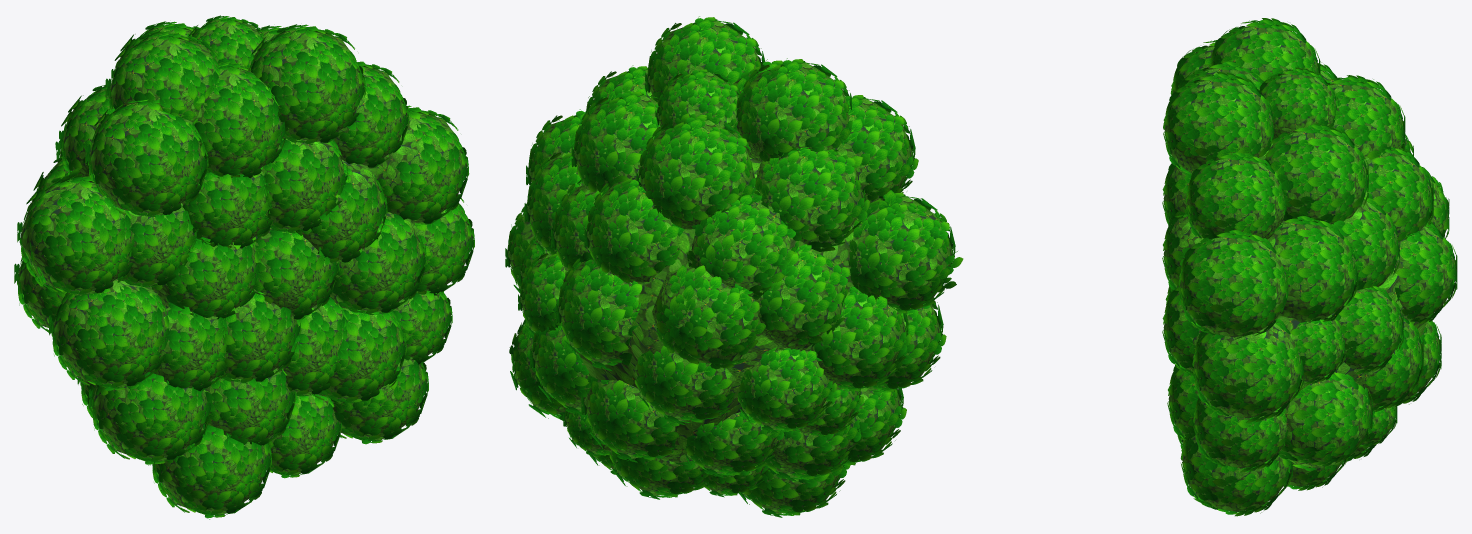
The model's file is YoshiHouseLeaf.obj.
3 views of the same model, side by side, from view 1: azimuth 30°, elevation 25°; view 2: azimuth 150°, elevation 25°; view 3: azimuth 270°, elevation 25° (orthographic). The views are drawn at different scales.
Parts seen in each view (by area): view 1: Leaf__TreeLeaf00, Leaf__TreeLeaf01_rep; view 2: Leaf__TreeLeaf00, Leaf__TreeLeaf01_rep; view 3: Leaf__TreeLeaf00, Leaf__TreeLeaf01_rep.
Part boxes in pixels (<box>): Leaf__TreeLeaf00: <box>14,15,474,519</box>; Leaf__TreeLeaf01_rep: <box>17,19,472,514</box>; Leaf__TreeLeaf00: <box>505,16,963,517</box>; Leaf__TreeLeaf01_rep: <box>507,21,952,513</box>; Leaf__TreeLeaf00: <box>1162,18,1457,516</box>; Leaf__TreeLeaf01_rep: <box>1163,24,1456,511</box>.
Bounding box in the file's own units: 4045 × 4115 × 3939.
3 materials, 2 textured.
